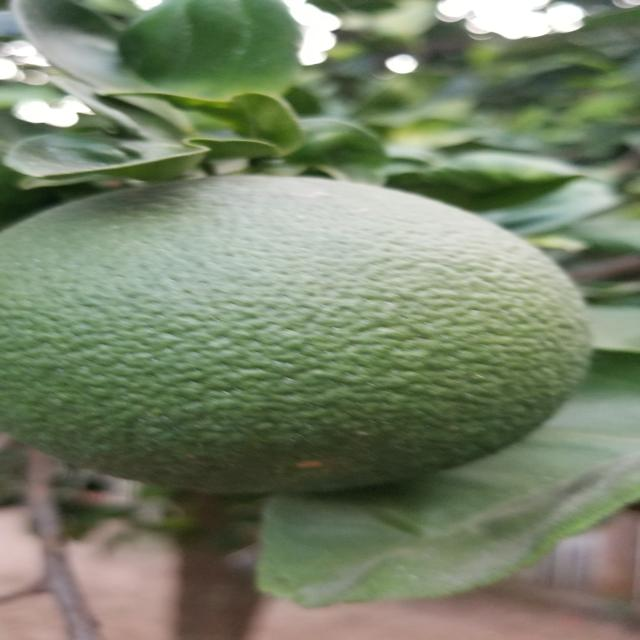Unripe: (3, 170, 594, 495)
